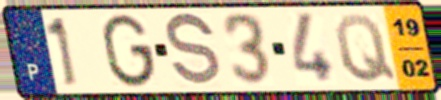1: (43, 15, 80, 88)
3: (223, 10, 272, 89)
4: (291, 9, 337, 88)
G: (100, 12, 158, 90)
Q: (332, 12, 400, 85)
S: (163, 10, 223, 90)
